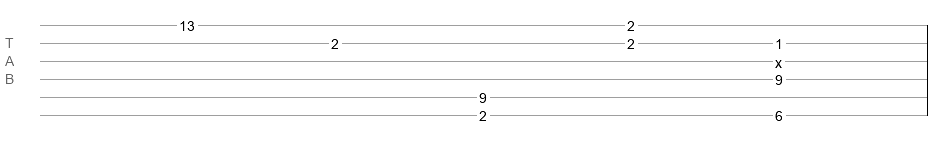1: (775, 36, 783, 46)
13: (179, 18, 195, 28)
2: (331, 36, 339, 46), (479, 108, 487, 118), (627, 18, 635, 28), (627, 36, 635, 46)
6: (775, 108, 783, 118)
9: (479, 90, 487, 100), (775, 72, 783, 82)
x: (775, 55, 782, 63)
